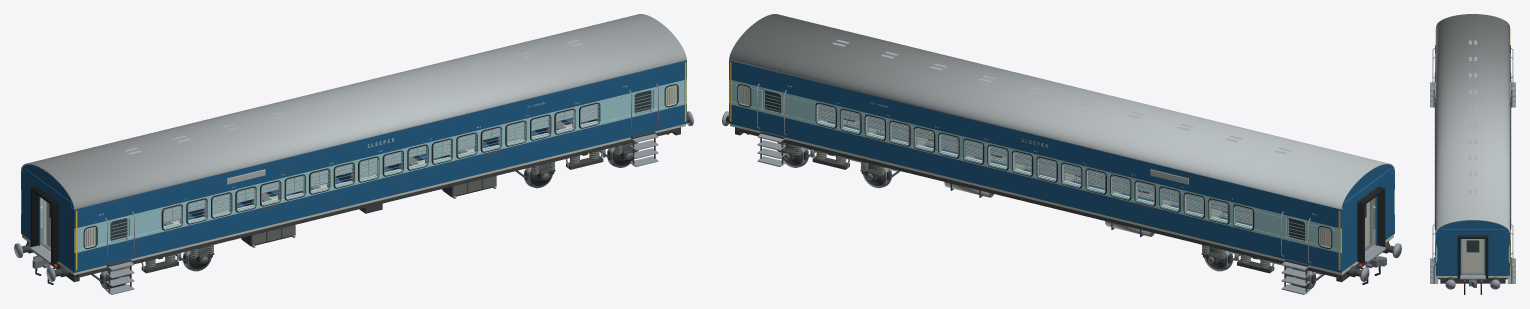
The model's file is ICF_sleeper_CBC_retrofit_v03.fbx.
The picture shows the model from 3 angles, left to right: view 1: azimuth 30°, elevation 25°; view 2: azimuth 150°, elevation 25°; view 3: azimuth 270°, elevation 25°; orthographic projection. The views are drawn at different scales.
Parts seen in each view (by area): view 1: ICF compound-curved roof shell, Lower blue bodyside, Upper blue letterboard, Longitudinal solebar, Lower cyan band, Floor, Upper cyan band, Coach end wall, Coach end wall.001, Window pier.002, Window pier.020, End upper arch panel (+1 smaller); view 2: ICF compound-curved roof shell, Lower blue bodyside.001, Upper blue letterboard.001, Longitudinal solebar.001, Lower cyan band.001, Floor, Upper cyan band.001, Coach end wall.001, Coach end wall, Window pier.024, Window pier.042, Interior finished floor (+2 smaller); view 3: ICF compound-curved roof shell, Coach end wall.002, Coach end wall.003, Vestibule recessed inner door.001, End upper arch panel.001, Curved roof end cap.001, Buffer beam.001, Vestibule door glazing.001, Gangway bellows fold.026, Gangway bellows fold.027, Gangway tread plate.001, Interior finished floor (+3 smaller).
Part boxes in pixels (bbox=[...]): ICF compound-curved roof shell: bbox=[21, 14, 686, 210]; Lower blue bodyside: bbox=[74, 104, 686, 272]; Upper blue letterboard: bbox=[74, 60, 686, 228]; Longitudinal solebar: bbox=[76, 127, 680, 277]; Lower cyan band: bbox=[74, 101, 686, 253]; Floor: bbox=[22, 124, 685, 275]; Upper cyan band: bbox=[74, 79, 686, 231]; Coach end wall: bbox=[58, 204, 74, 272]; Coach end wall.001: bbox=[22, 171, 40, 245]; Window pier.002: bbox=[129, 210, 161, 236]; Window pier.020: bbox=[598, 96, 630, 121]; End upper arch panel: bbox=[24, 168, 71, 212]; ICF compound-curved roof shell: bbox=[729, 14, 1394, 210]; Lower blue bodyside.001: bbox=[729, 104, 1341, 272]; Upper blue letterboard.001: bbox=[729, 60, 1341, 228]; Longitudinal solebar.001: bbox=[735, 127, 1339, 277]; Lower cyan band.001: bbox=[729, 101, 1341, 253]; Floor: bbox=[730, 124, 1393, 275]; Upper cyan band.001: bbox=[729, 79, 1341, 231]; Coach end wall.001: bbox=[1341, 204, 1357, 272]; Coach end wall: bbox=[1375, 171, 1393, 245]; Window pier.024: bbox=[1254, 210, 1286, 236]; Window pier.042: bbox=[785, 96, 817, 121]; Interior finished floor: bbox=[843, 120, 1375, 251]; ICF compound-curved roof shell: bbox=[1436, 14, 1509, 232]; Coach end wall.002: bbox=[1437, 232, 1461, 275]; Coach end wall.003: bbox=[1484, 232, 1508, 275]; Vestibule recessed inner door.001: bbox=[1462, 239, 1483, 272]; End upper arch panel.001: bbox=[1440, 229, 1505, 236]; Curved roof end cap.001: bbox=[1437, 220, 1508, 232]; Buffer beam.001: bbox=[1440, 278, 1505, 283]; Vestibule door glazing.001: bbox=[1466, 240, 1479, 252]; Gangway bellows fold.026: bbox=[1457, 238, 1460, 278]; Gangway bellows fold.027: bbox=[1485, 238, 1488, 278]; Gangway tread plate.001: bbox=[1460, 274, 1485, 279]; Interior finished floor: bbox=[1461, 239, 1484, 274].
Bounding box in the file's own units: 376 × 2246 × 405.
